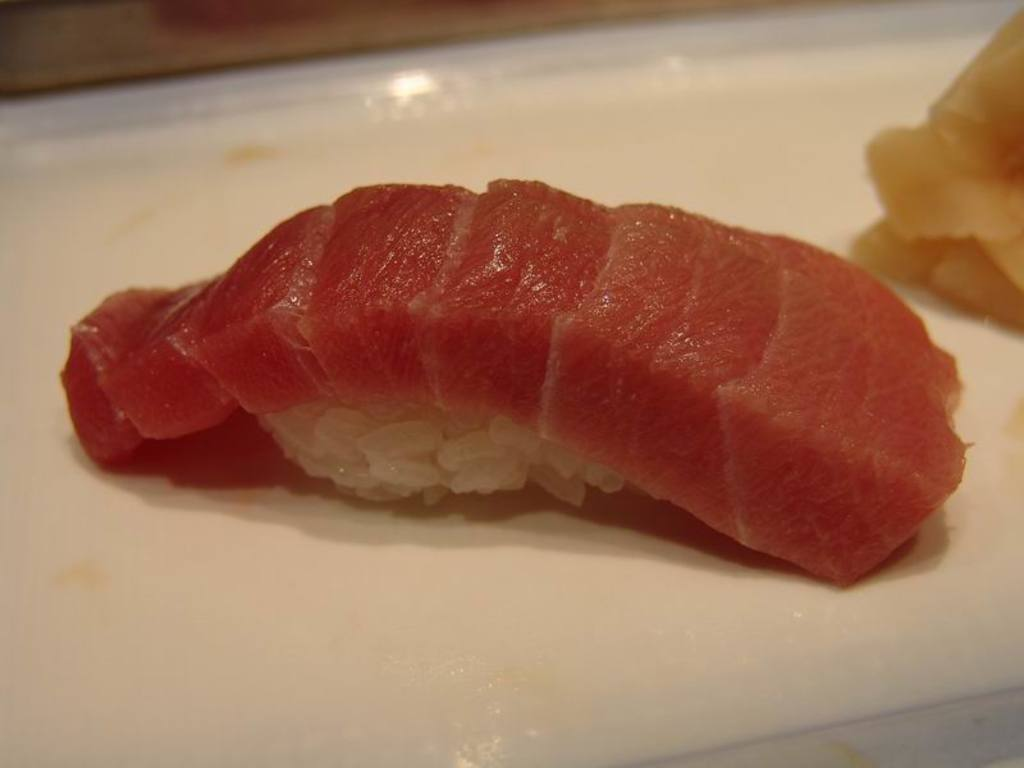sushi: (52, 189, 955, 541)
